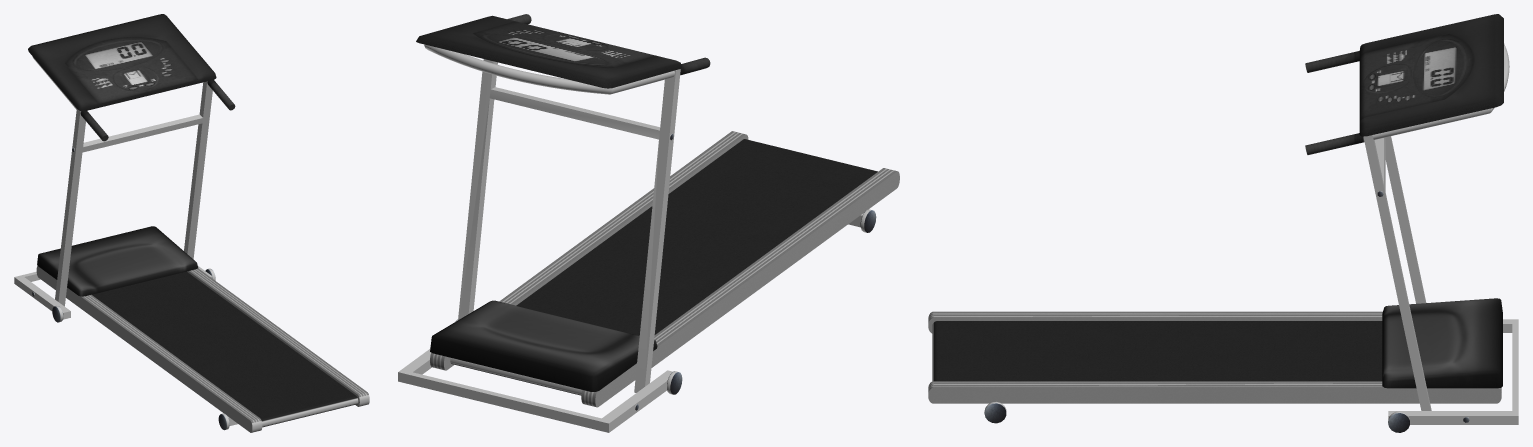
File: Treadmill.FBX
3 views of the same model, side by side, from view 1: azimuth 30°, elevation 25°; view 2: azimuth 150°, elevation 25°; view 3: azimuth 270°, elevation 25° (orthographic). The views are drawn at different scales.
Parts seen in each view (by area): view 1: Treadmill; view 2: Treadmill; view 3: Treadmill.
Part boxes in pixels (x1=…): Treadmill: x1=14, y1=14, x2=369, y2=432; Treadmill: x1=398, y1=14, x2=899, y2=432; Treadmill: x1=928, y1=14, x2=1518, y2=432.
Bounding box in the file's own units: 900 × 1359 × 2229.
